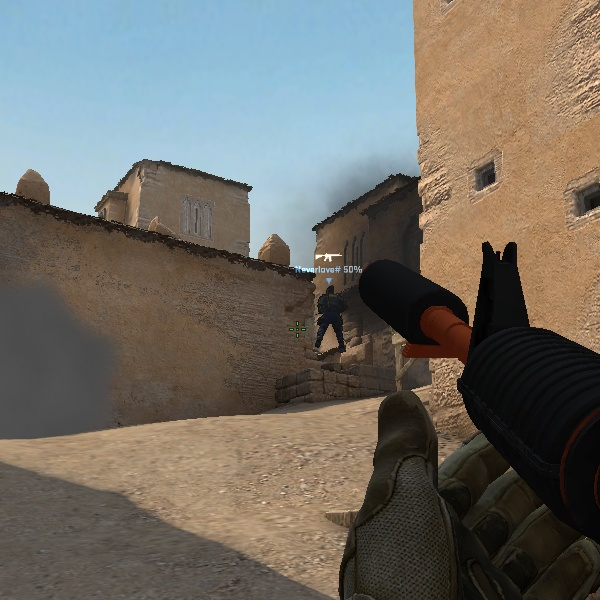ct_body: (316, 286, 346, 350)
ct_head: (326, 285, 335, 298)
